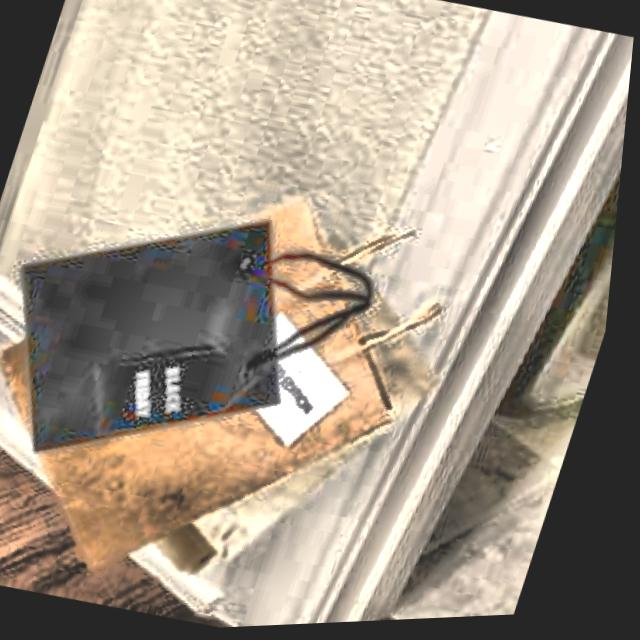Paper-bag: (0, 127, 475, 630), (0, 158, 428, 517)
